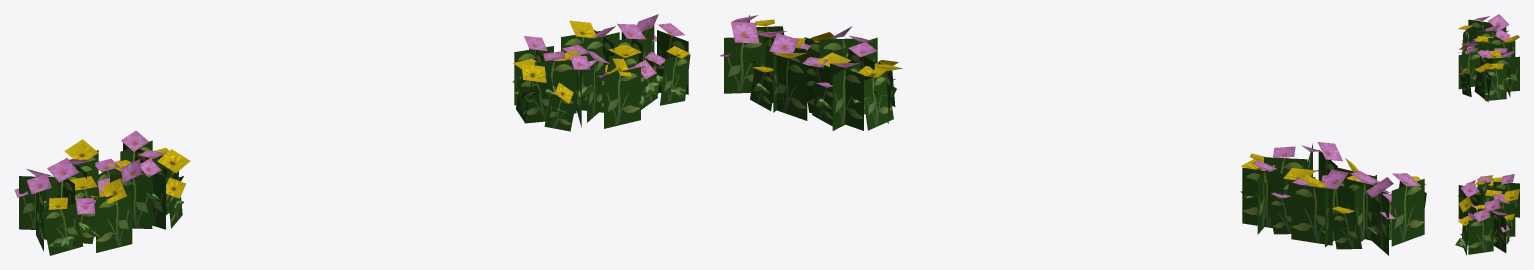
The model's file is scene_lawennushandao_building01a.FBX.
3 views of the same model, side by side, from view 1: azimuth 30°, elevation 25°; view 2: azimuth 150°, elevation 25°; view 3: azimuth 270°, elevation 25° (orthographic). The views are drawn at different scales.
Visible parts, largest first — view 1: scene_lawennushandao_building01a; view 2: scene_lawennushandao_building01a; view 3: scene_lawennushandao_building01a.
Part boxes in pixels (left/top/right/bottom): scene_lawennushandao_building01a: left=14, top=14, right=690, bottom=255; scene_lawennushandao_building01a: left=720, top=15, right=1426, bottom=255; scene_lawennushandao_building01a: left=1455, top=14, right=1519, bottom=255.
Bounding box in the file's own units: 462 × 52.86 × 62.19.
